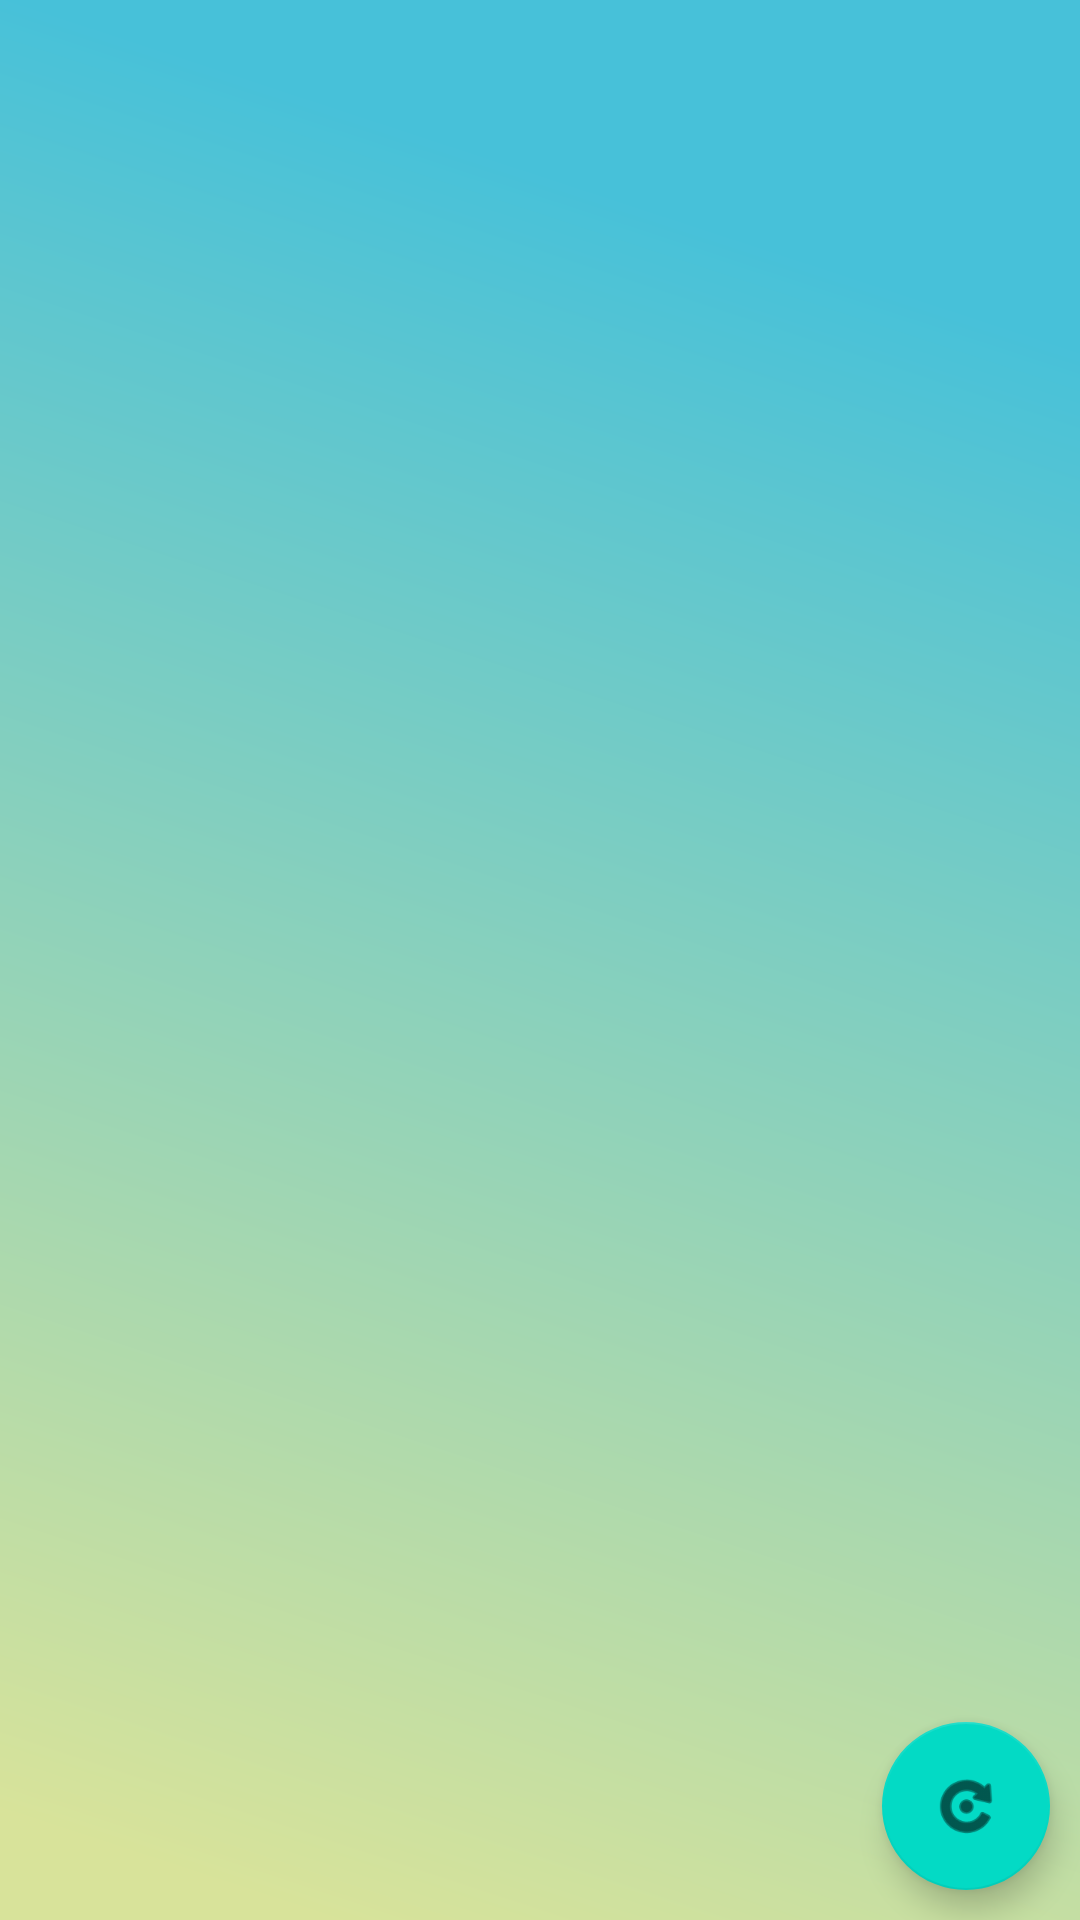

Point at icon controls on the screen. Image size 1080 × 1920, points as point (x, y).
rotate: point (966, 1806)
